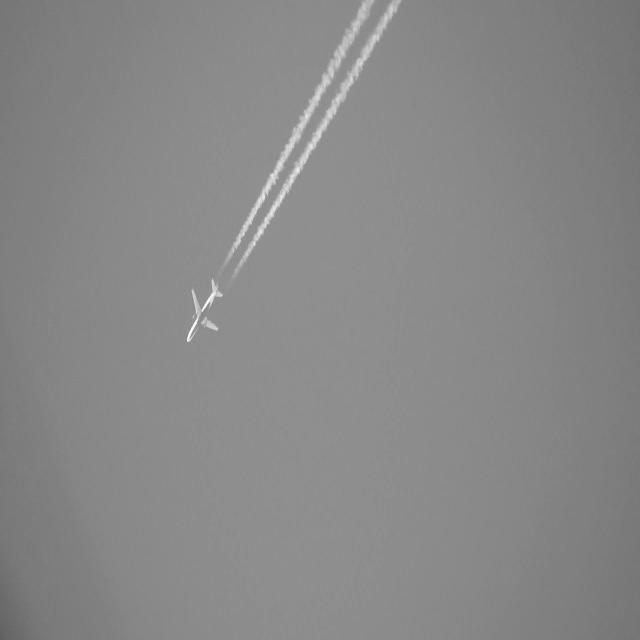aeroplane: (184, 274, 222, 348)
